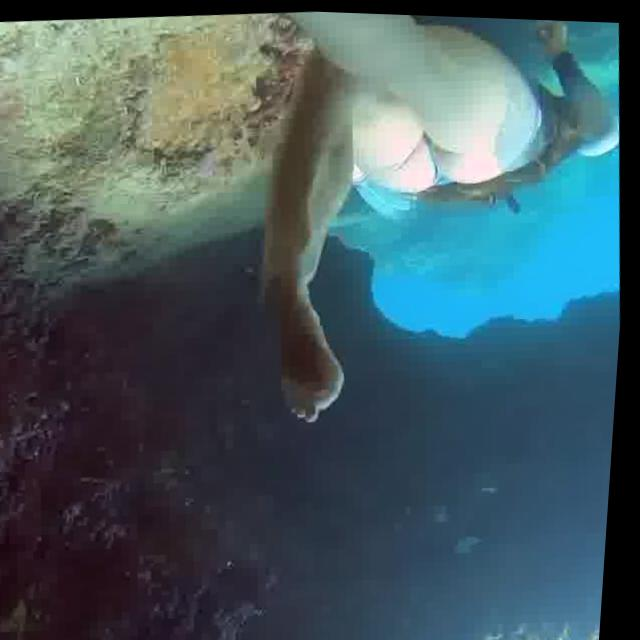human: (202, 7, 640, 458)
